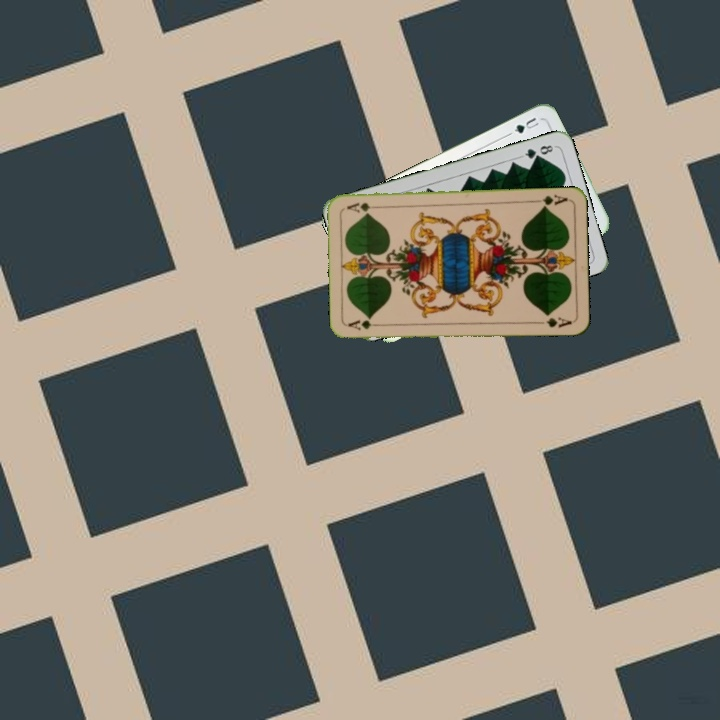G8: (518, 141, 557, 161)
GA: (530, 191, 570, 211), (344, 316, 385, 333)
GU: (504, 113, 541, 138)
